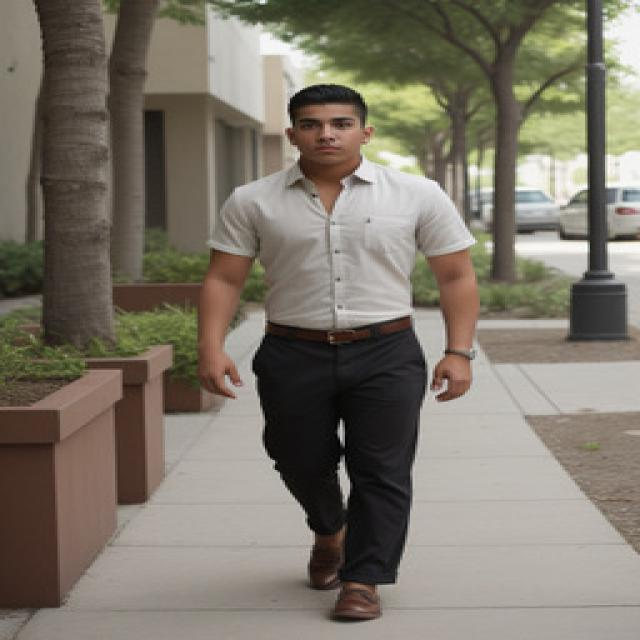Ai human 2: (182, 76, 489, 633)
